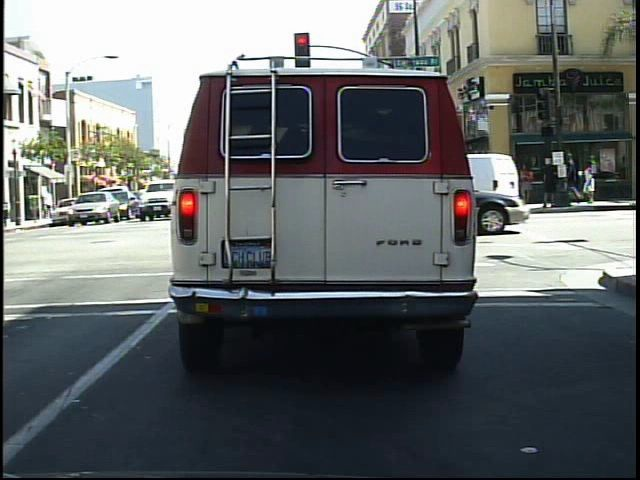person: (537, 154, 562, 213), (566, 148, 585, 210), (516, 157, 538, 209), (583, 157, 605, 208)
